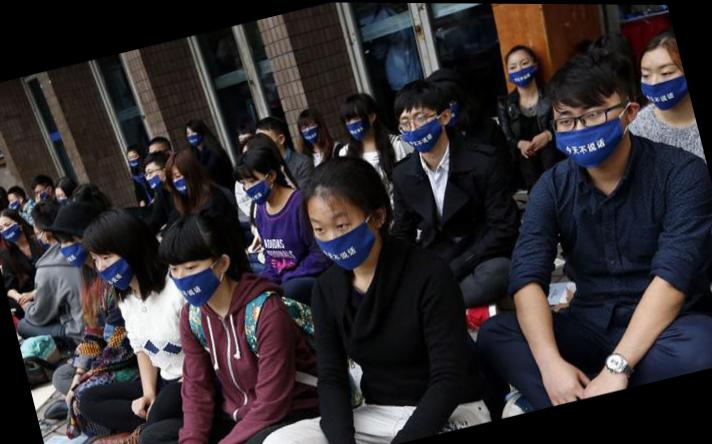OK: (548, 95, 624, 171), (309, 203, 379, 274), (166, 244, 230, 309), (636, 53, 691, 112), (238, 168, 274, 209), (57, 227, 92, 269), (506, 53, 539, 89), (344, 112, 373, 142), (169, 167, 195, 199), (1, 214, 25, 244), (300, 120, 324, 147), (7, 192, 26, 214), (35, 184, 53, 207), (185, 128, 203, 148), (128, 152, 143, 169)
WRONG: (398, 106, 449, 157), (90, 246, 137, 293), (144, 161, 169, 192)
